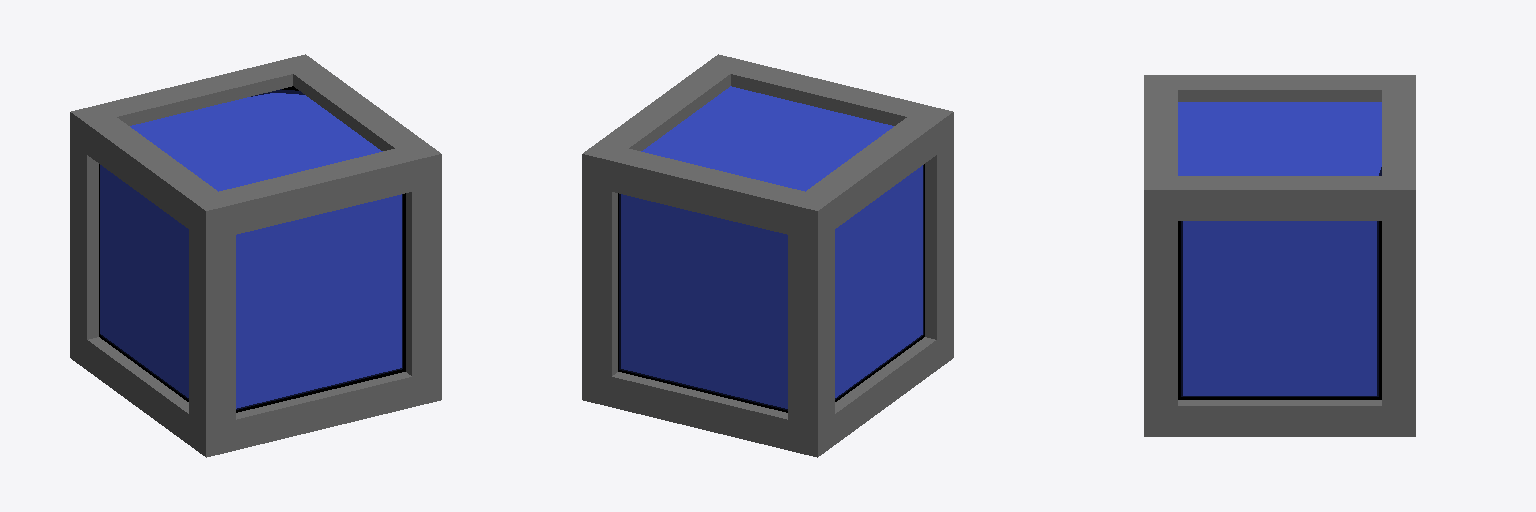
3 views of the same model, side by side, from view 1: azimuth 30°, elevation 25°; view 2: azimuth 150°, elevation 25°; view 3: azimuth 270°, elevation 25° (orthographic).
Parts seen in each view (by area): view 1: cube1; view 2: cube1; view 3: cube1.
Boxes of the visible parts, x1=… form: cube1: x1=70, y1=54, x2=441, y2=457; cube1: x1=582, y1=54, x2=953, y2=457; cube1: x1=1144, y1=75, x2=1415, y2=436.
Bounding box in the file's own units: 1 × 1 × 1.
1 materials, 1 textured.